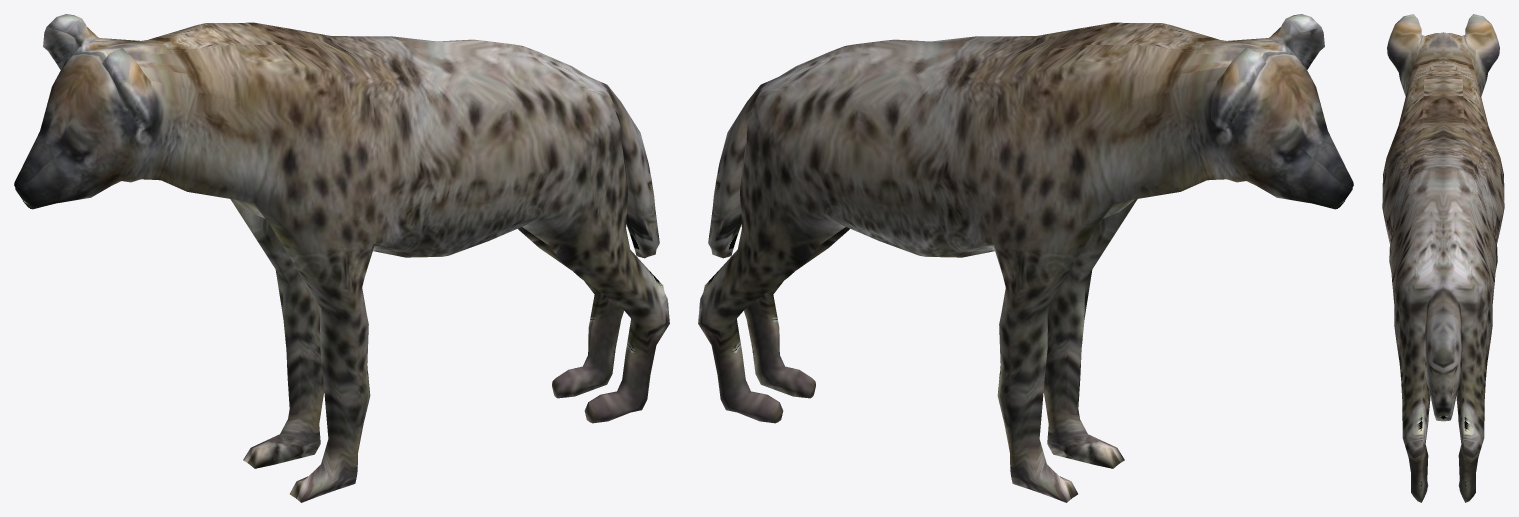
Rendered from hYena.gltf.
3 views of the same model, side by side, from view 1: azimuth 30°, elevation 25°; view 2: azimuth 150°, elevation 25°; view 3: azimuth 270°, elevation 25° (orthographic). The views are drawn at different scales.
Parts seen in each view (by area): view 1: Plane; view 2: Plane; view 3: Plane.
Boxes of the visible parts, x1,y1,x2,y2 form: Plane: [14, 14, 669, 502]; Plane: [698, 14, 1353, 502]; Plane: [1382, 14, 1504, 502].
Size of the model in its own units: 2.96 by 2.17 by 0.7502.
1 material, 1 textured.
